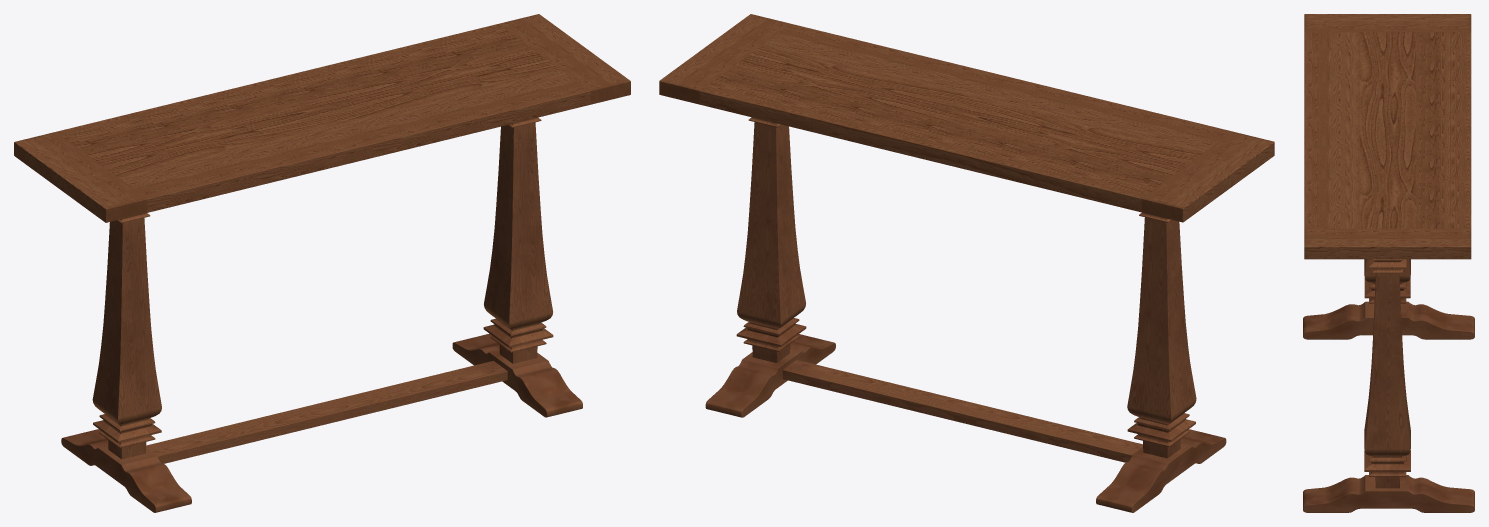
Rendered from abo-B07B8FN8TP.glb.
3 views of the same model, side by side, from view 1: azimuth 30°, elevation 25°; view 2: azimuth 150°, elevation 25°; view 3: azimuth 270°, elevation 25° (orthographic). The views are drawn at different scales.
Size of the model in its own units: 1.48 by 0.852 by 0.461.
Materials: 1 (1 with a texture image).
